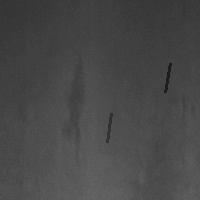inclusion: (56, 54, 94, 167), (163, 61, 172, 94), (105, 111, 113, 144)
